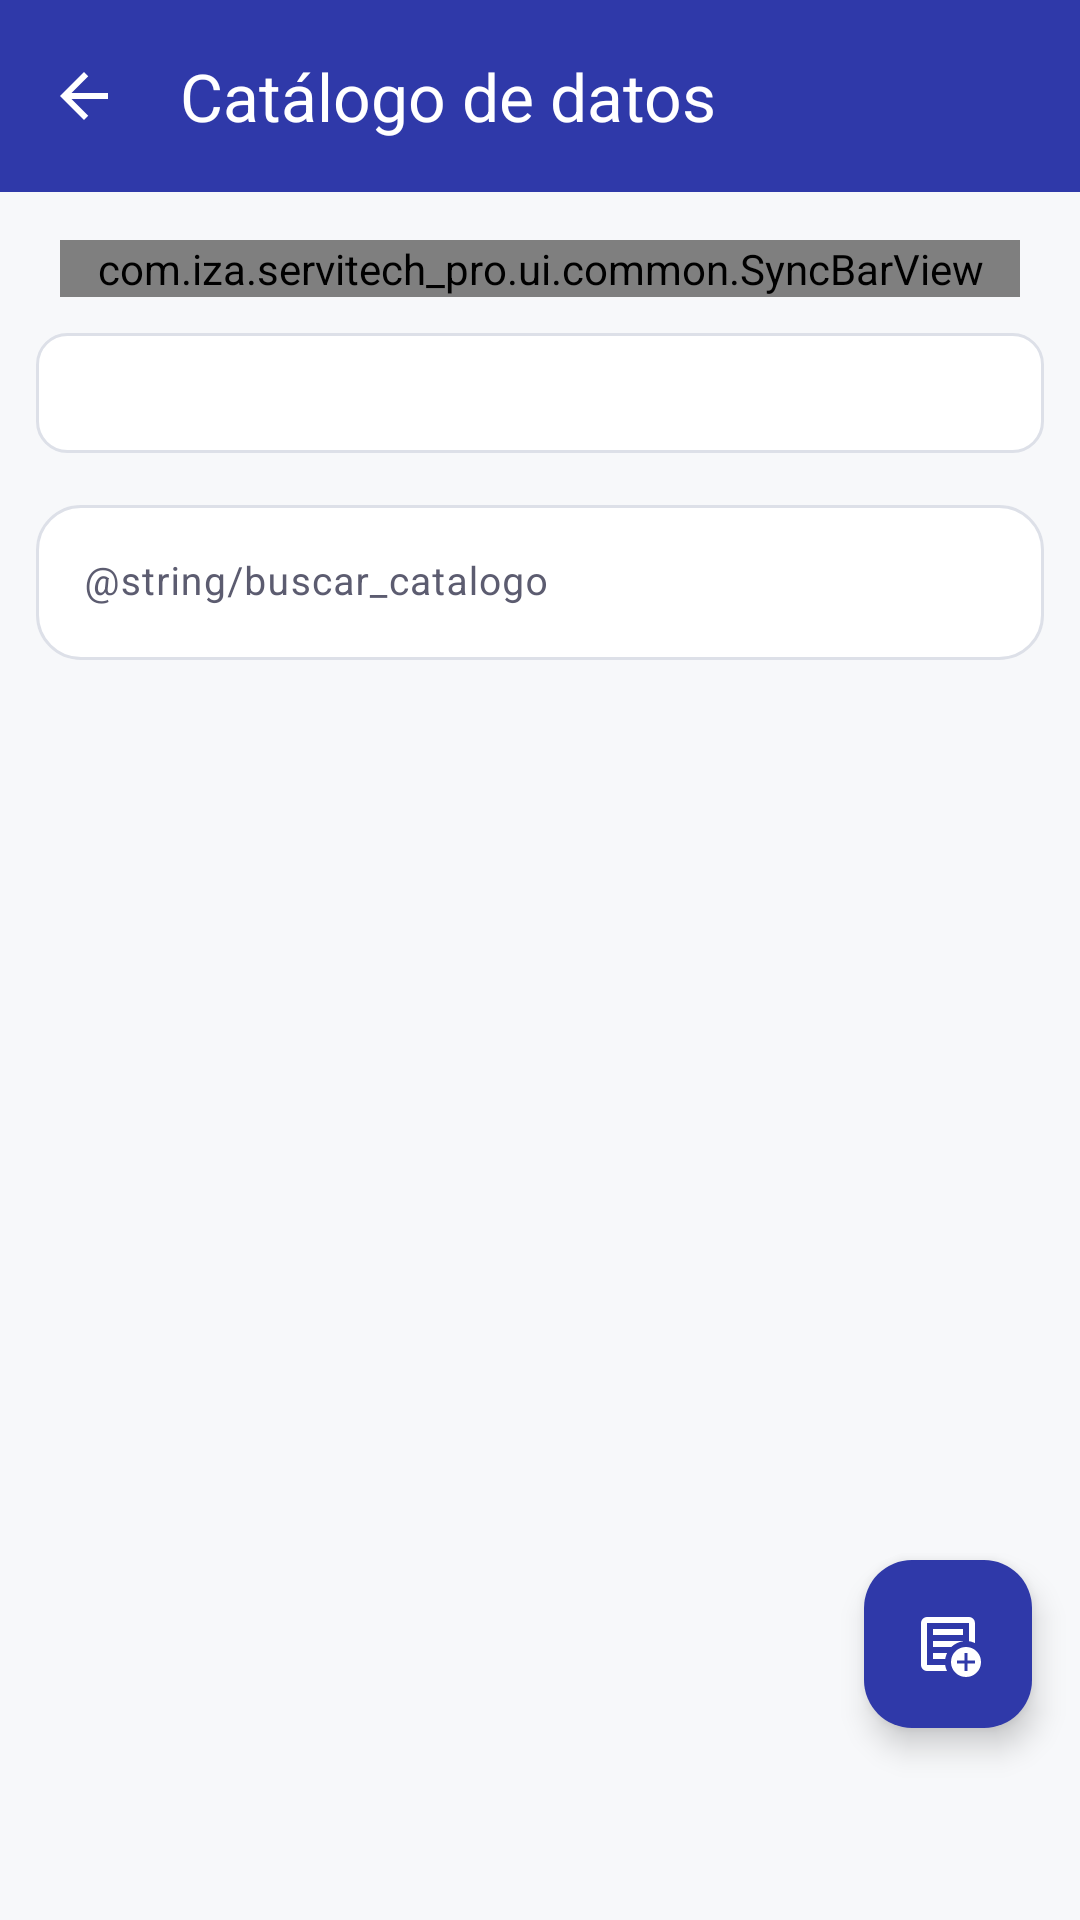

Screen size 1080*1920. Icon name, then its center in pixels as point (x, y):
add notes: point (948, 1644)
